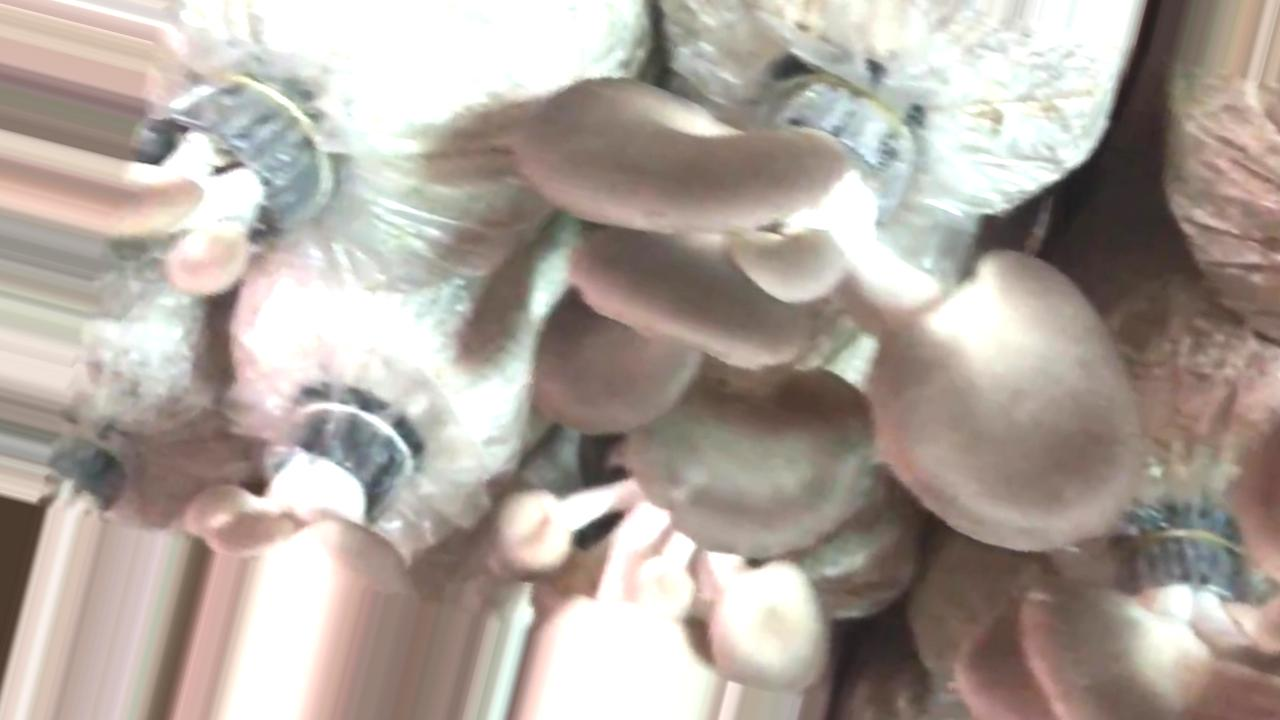nam: (535, 75, 1142, 550), (500, 482, 828, 720), (177, 403, 409, 720), (1, 88, 342, 296), (960, 523, 1277, 720)
